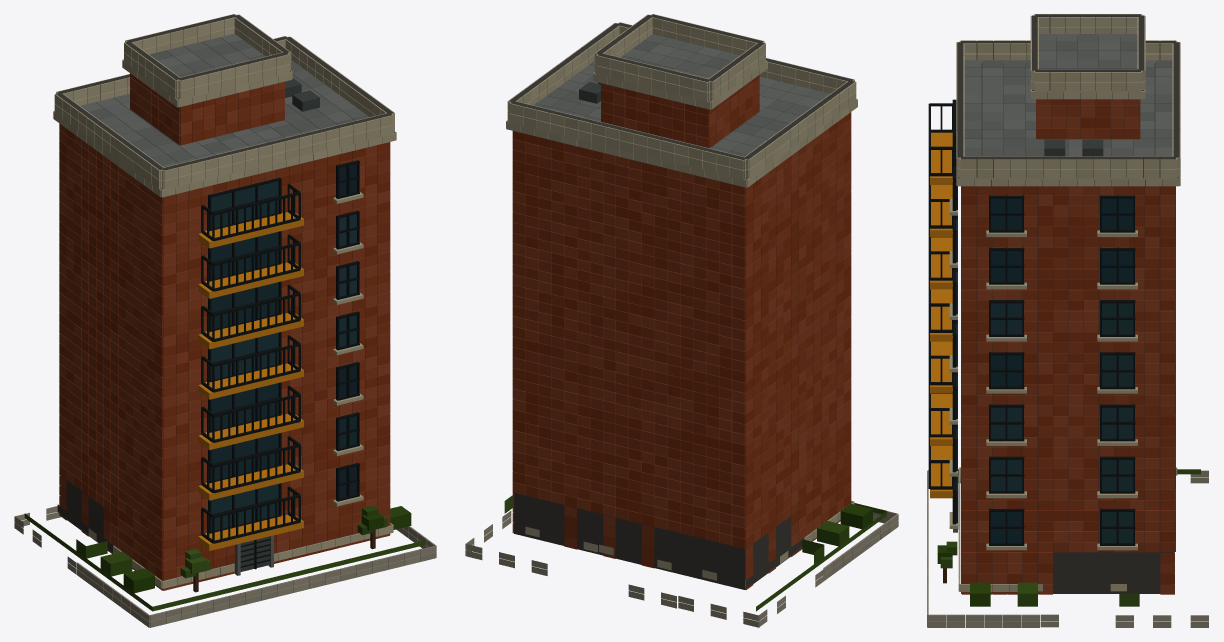
The model's file is SM_StreetFrontage_064.fbx.
3 views of the same model, side by side, from view 1: azimuth 30°, elevation 25°; view 2: azimuth 150°, elevation 25°; view 3: azimuth 270°, elevation 25° (orthographic). The views are drawn at different scales.
Visible parts, largest first — view 1: SM_StreetFrontage_064; view 2: SM_StreetFrontage_064; view 3: SM_StreetFrontage_064.
Part boxes in pixels (x1,y1,x2,y2): SM_StreetFrontage_064: (14, 14, 436, 627); SM_StreetFrontage_064: (465, 14, 898, 627); SM_StreetFrontage_064: (927, 14, 1208, 627).
Bounding box in the file's own units: 14 × 11.52 × 22.83.
